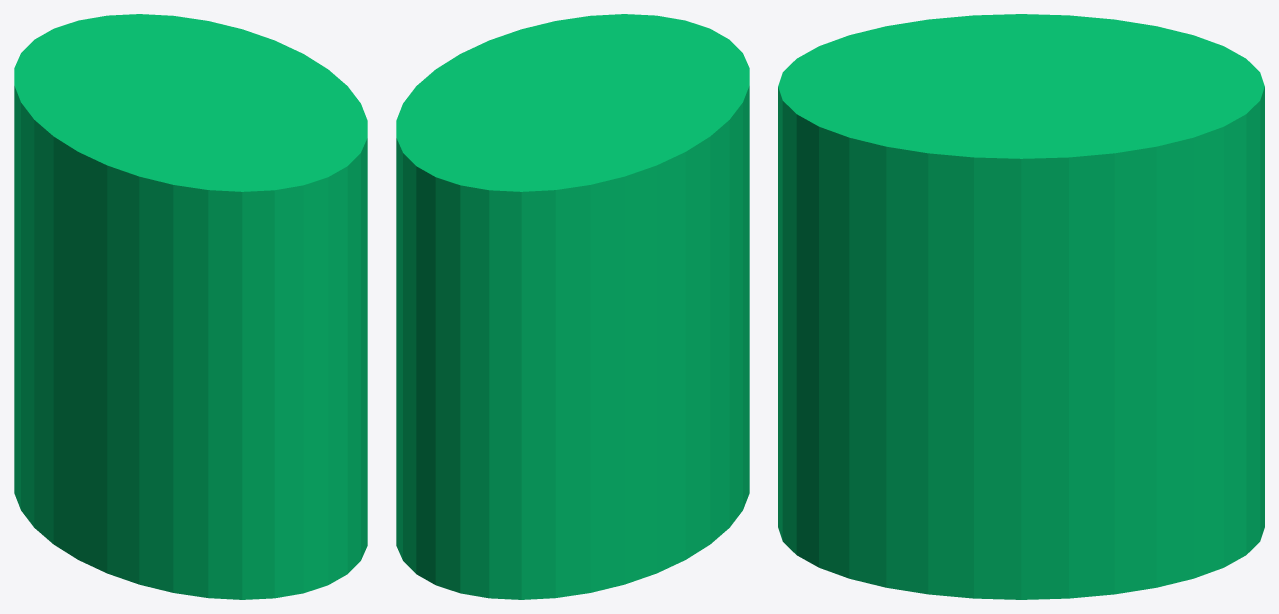
The picture shows the model from 3 angles, left to right: view 1: azimuth 30°, elevation 25°; view 2: azimuth 150°, elevation 25°; view 3: azimuth 270°, elevation 25°; orthographic projection. The views are drawn at different scales.
Parts seen in each view (by area): view 1: Cylinder; view 2: Cylinder; view 3: Cylinder.
Part boxes in pixels (bbox=[...]): Cylinder: bbox=[14, 14, 367, 599]; Cylinder: bbox=[396, 14, 749, 599]; Cylinder: bbox=[778, 14, 1264, 599].
Size of the model in its own units: 0.4935 by 0.7007 by 0.7007.
